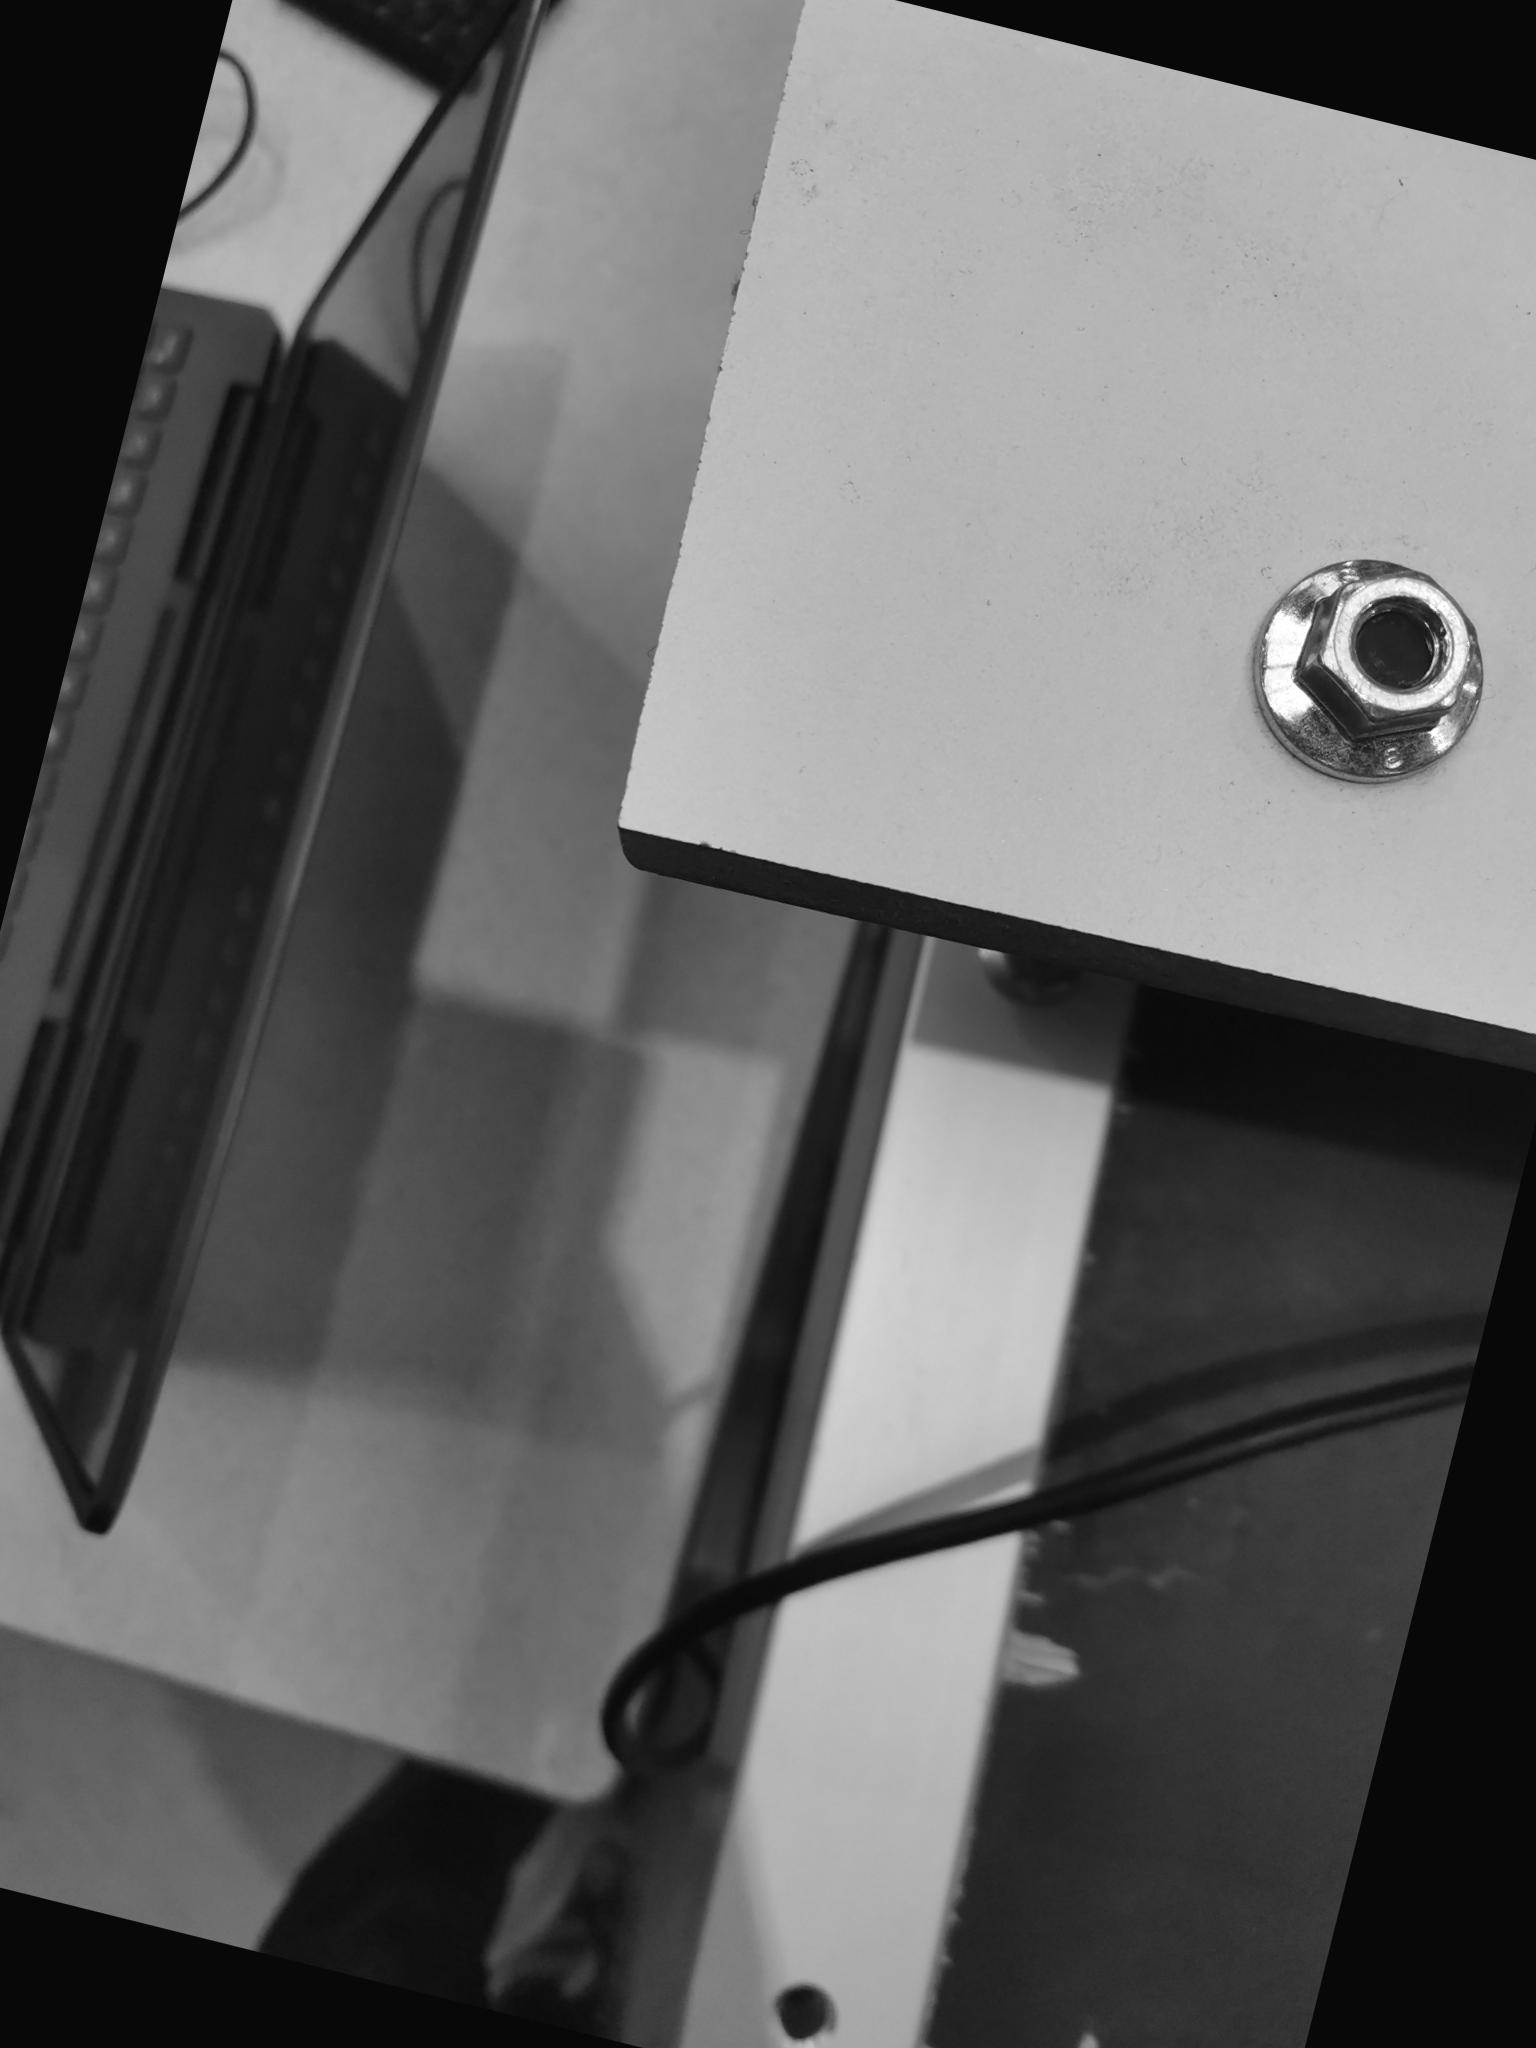screw: (1207, 524, 1523, 822)
